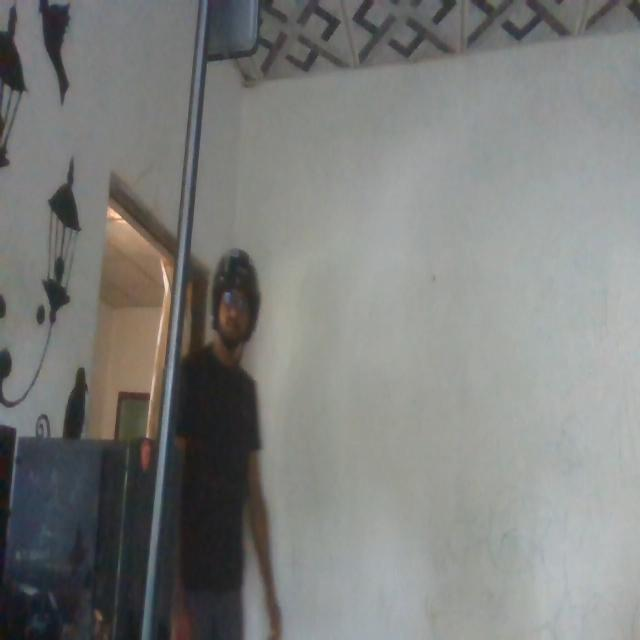Helmet_Wearer: (204, 253, 254, 371)
Person: (172, 235, 279, 640)
